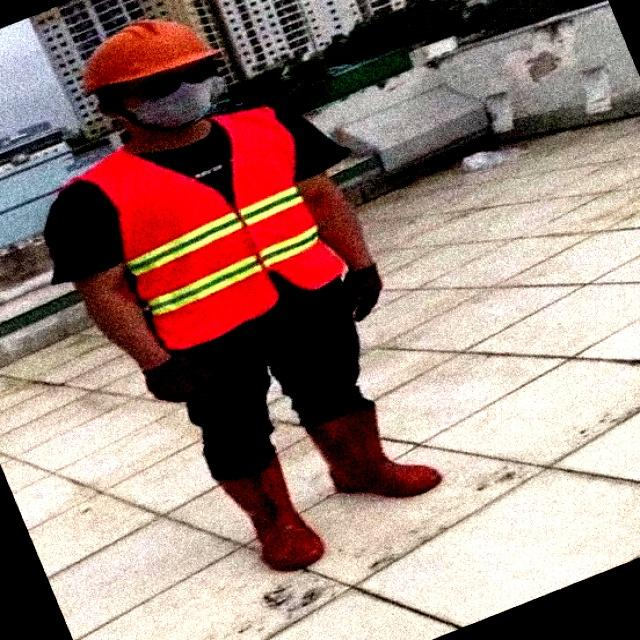helmet: (84, 15, 222, 94)
safety_vest: (63, 116, 346, 348)
